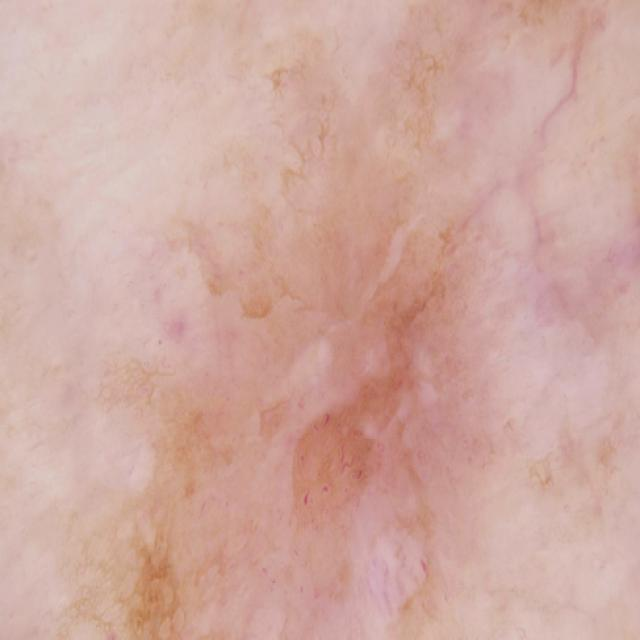Dermatofibroma: (73, 119, 511, 640)
